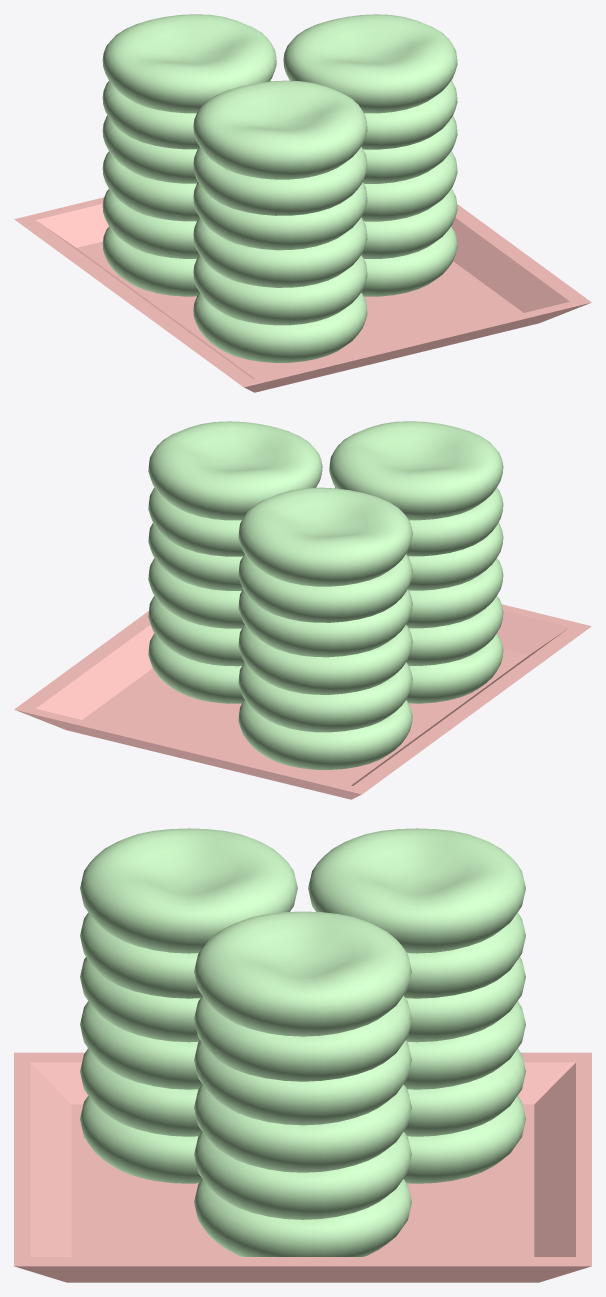
Rendered from ondehdough1.fbx.
3 views of the same model, one above another, from view 1: azimuth 30°, elevation 25°; view 2: azimuth 150°, elevation 25°; view 3: azimuth 270°, elevation 25° (orthographic). The views are drawn at different scales.
Visible parts, largest first — view 1: Cube.037, Sphere.050, Sphere.049, Sphere.078, Sphere.056, Sphere.085, Sphere.083, Sphere.052, Sphere.054, Sphere.055, Sphere.084, Sphere.082 (+7 smaller); view 2: Cube.037, Sphere.049, Sphere.050, Sphere.078, Sphere.055, Sphere.084, Sphere.082, Sphere.051, Sphere.053, Sphere.056, Sphere.085, Sphere.083 (+7 smaller); view 3: Cube.037, Sphere.078, Sphere.050, Sphere.049, Sphere.081, Sphere.086, Sphere.079, Sphere.087, Sphere.080, Sphere.056, Sphere.055, Sphere.085 (+7 smaller).
Boxes of the visible parts, <box> form: Cube.037: <box>14,197,591,392</box>; Sphere.050: <box>193,80,367,179</box>; Sphere.049: <box>102,14,276,113</box>; Sphere.078: <box>283,14,457,113</box>; Sphere.056: <box>193,217,367,287</box>; Sphere.085: <box>193,292,367,362</box>; Sphere.083: <box>193,255,367,325</box>; Sphere.052: <box>193,146,367,215</box>; Sphere.054: <box>193,182,367,250</box>; Sphere.055: <box>102,151,199,221</box>; Sphere.084: <box>102,226,199,296</box>; Sphere.082: <box>102,189,199,258</box>; Cube.037: <box>14,604,591,799</box>; Sphere.049: <box>238,487,412,586</box>; Sphere.050: <box>329,421,503,520</box>; Sphere.078: <box>148,421,322,520</box>; Sphere.055: <box>238,624,412,694</box>; Sphere.084: <box>238,699,412,769</box>; Sphere.082: <box>238,662,412,732</box>; Sphere.051: <box>238,553,412,622</box>; Sphere.053: <box>238,589,412,657</box>; Sphere.056: <box>406,558,503,628</box>; Sphere.085: <box>406,633,503,703</box>; Sphere.083: <box>406,596,503,665</box>; Cube.037: <box>14,1052,591,1282</box>; Sphere.078: <box>194,911,411,1036</box>; Sphere.050: <box>80,828,297,953</box>; Sphere.049: <box>308,828,525,953</box>; Sphere.081: <box>194,1084,411,1172</box>; Sphere.086: <box>194,1131,411,1219</box>; Sphere.079: <box>194,995,411,1081</box>; Sphere.087: <box>194,1179,411,1256</box>; Sphere.080: <box>194,1040,411,1125</box>; Sphere.056: <box>80,1001,202,1089</box>; Sphere.055: <box>404,1001,525,1089</box>; Sphere.085: <box>80,1096,202,1183</box>.
Bounding box in the file's own units: 151 × 99.76 × 172.
